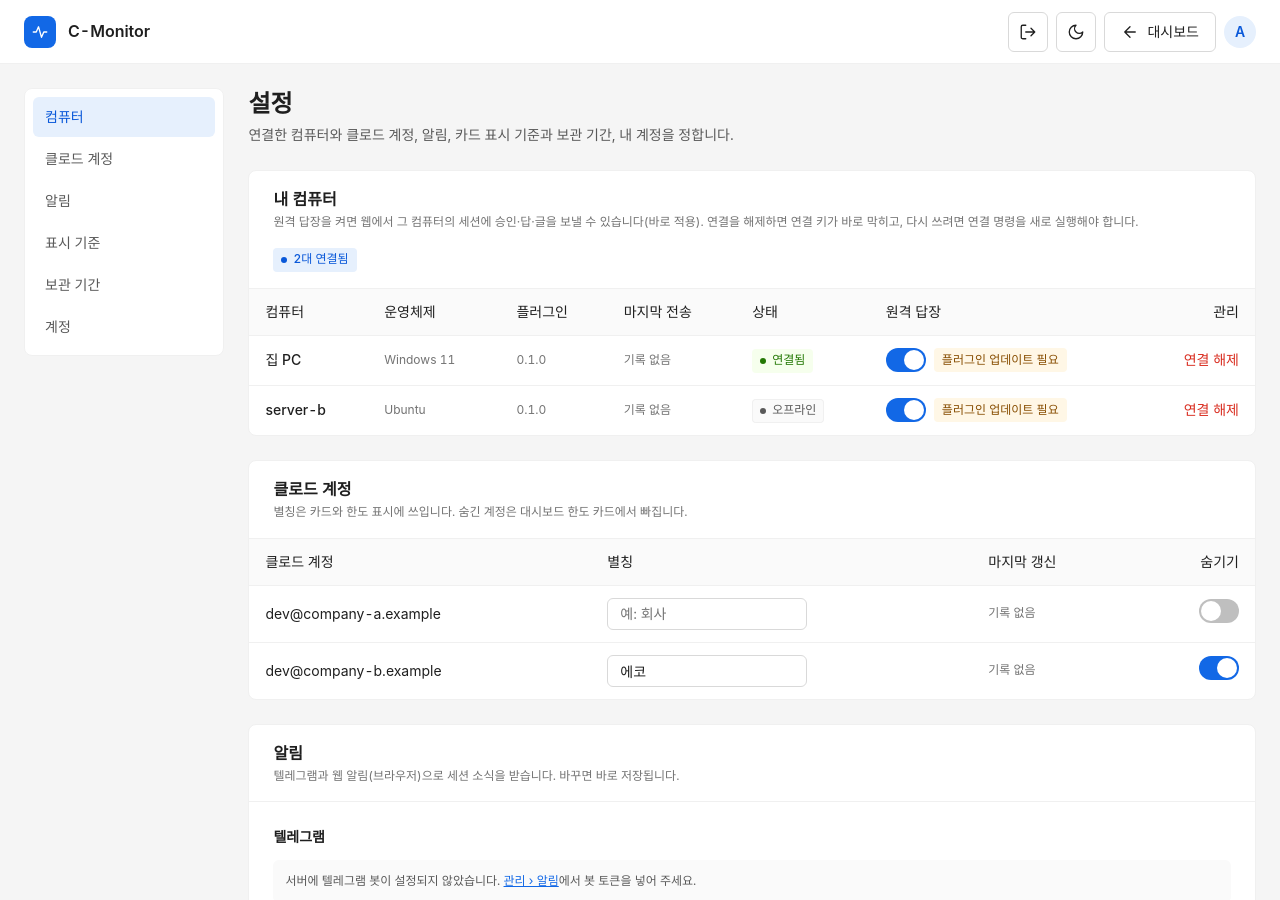
Test case: 설정 › 컴퓨터·계정·기준·보관을 보여 주고 바꾼 것만 저장한다
Expected: the text "집 PC" is shown, [266,351,301,368]
Expected: the text "오프라인" is shown, [752,399,824,423]
In the field named "dev@company-a.example 별칭": coordinates (707, 614) [607,598,807,630], type "회사"
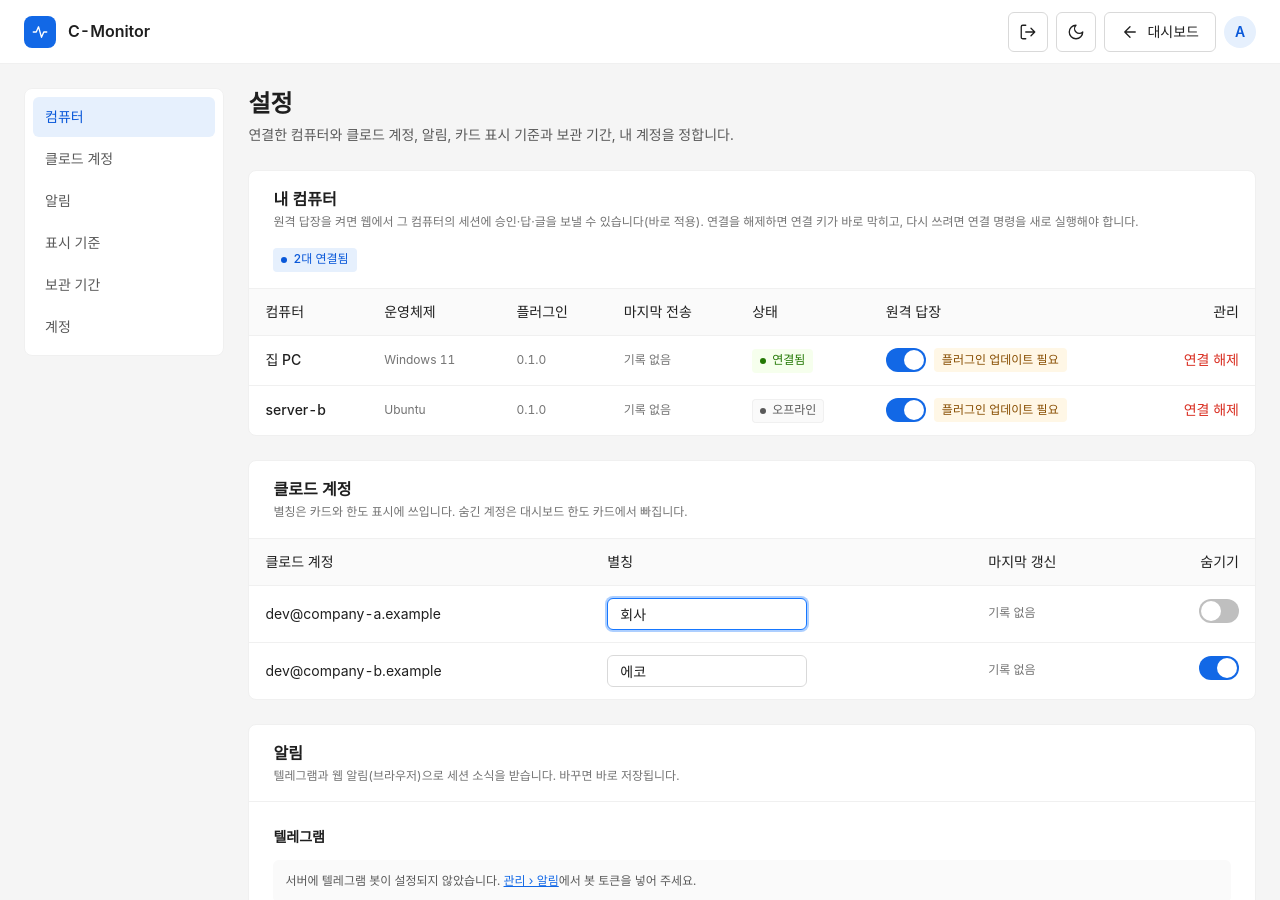
Click the switch named "dev@company-b.example 숨기기": coordinates (1219, 668) [1199,656,1239,680]
(page scrolled)
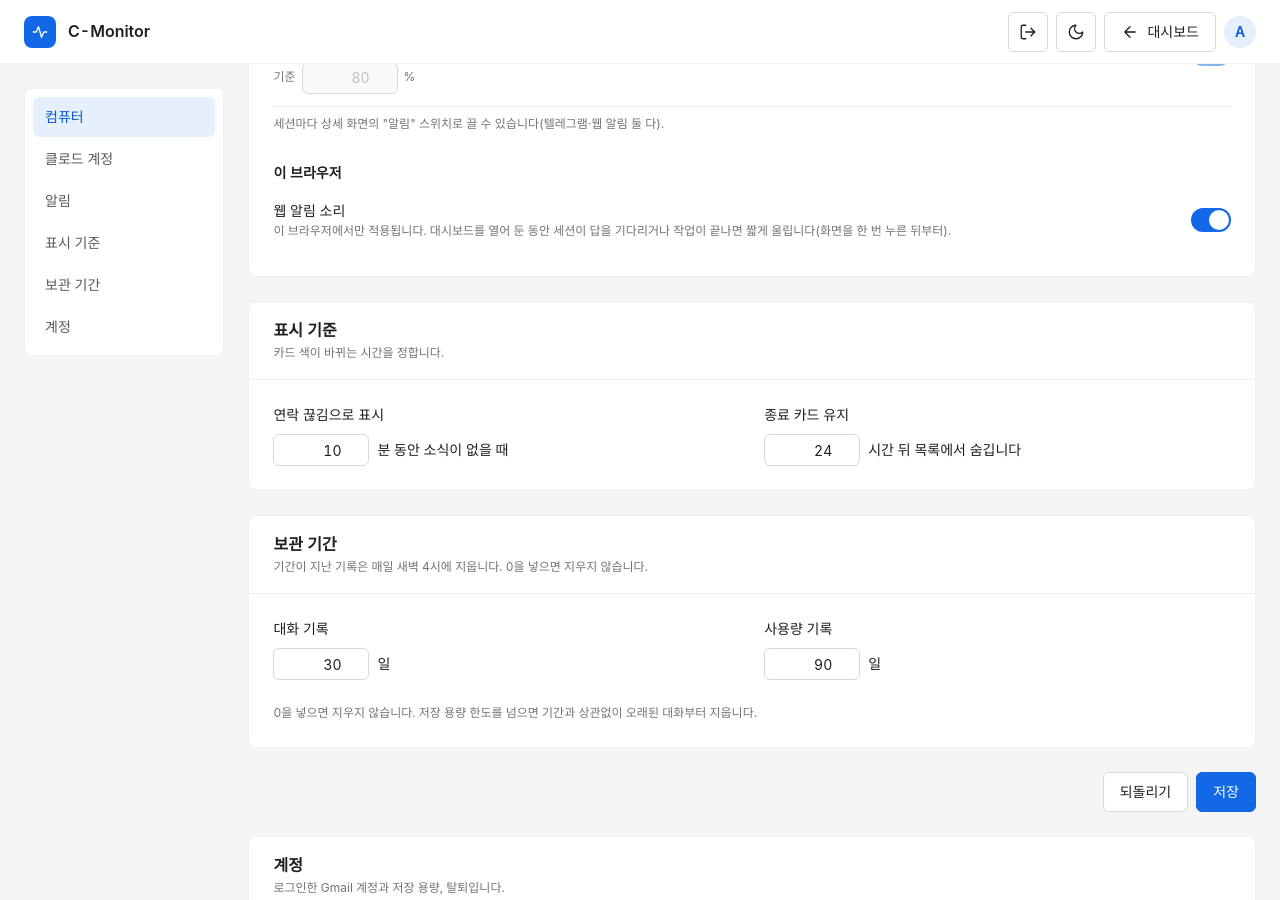
Replace the text in the number field labelled "연락 끊김으로 표시" with "15": coordinates (322, 450) [274,434,370,466]
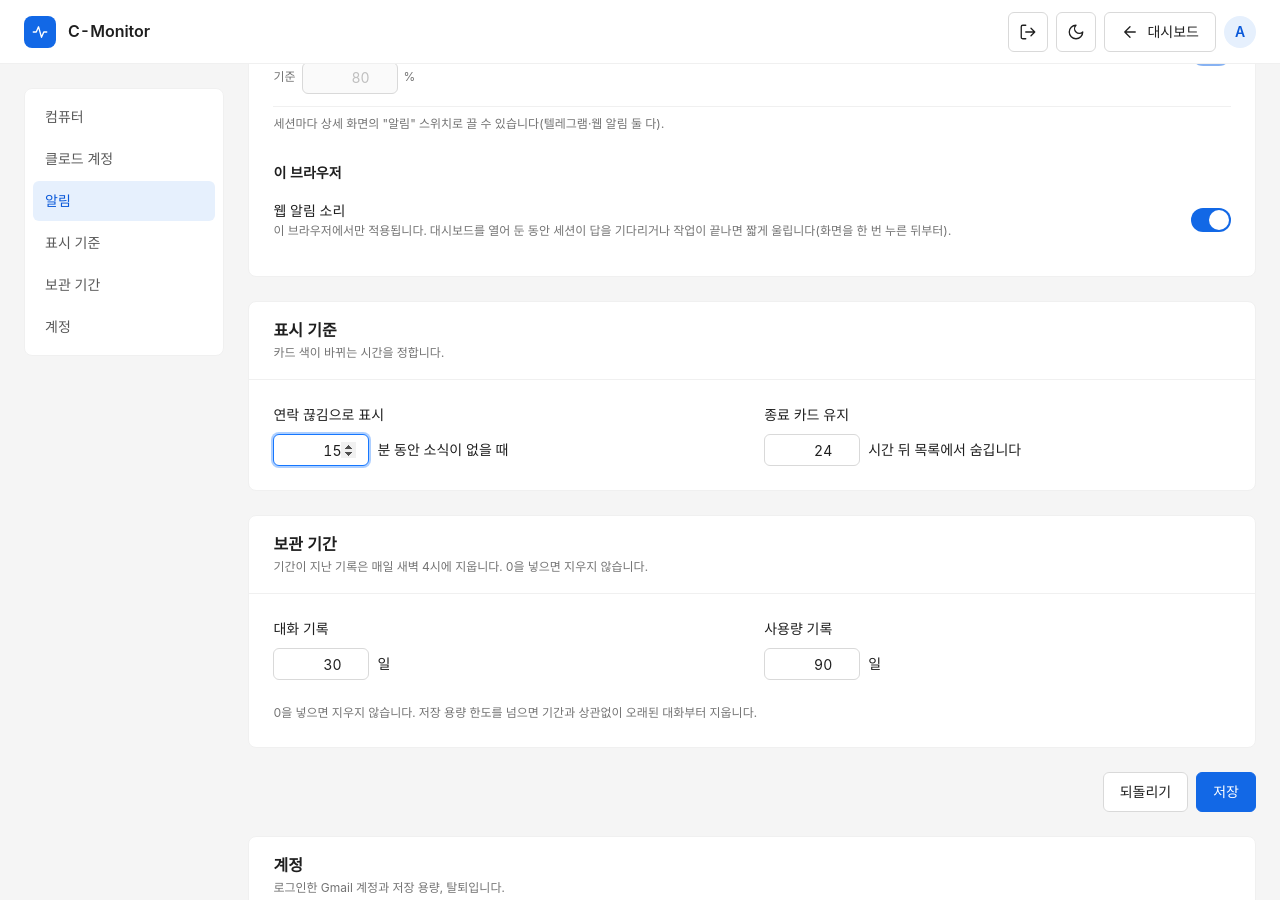
Click the button "저장": coordinates (1226, 792) [1196,772,1256,812]
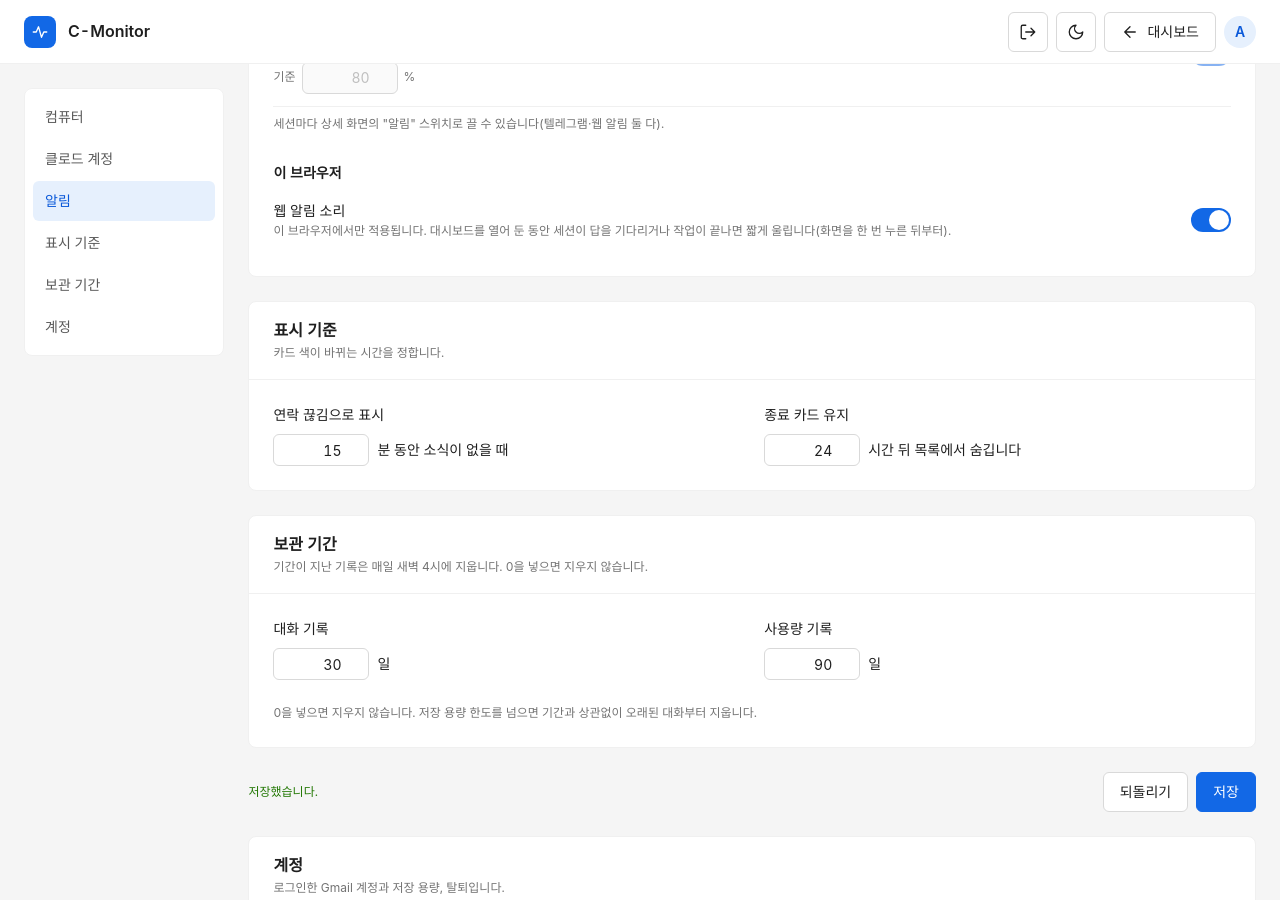
Expected: the text "저장했습니다." is shown, [248,783,318,801]
